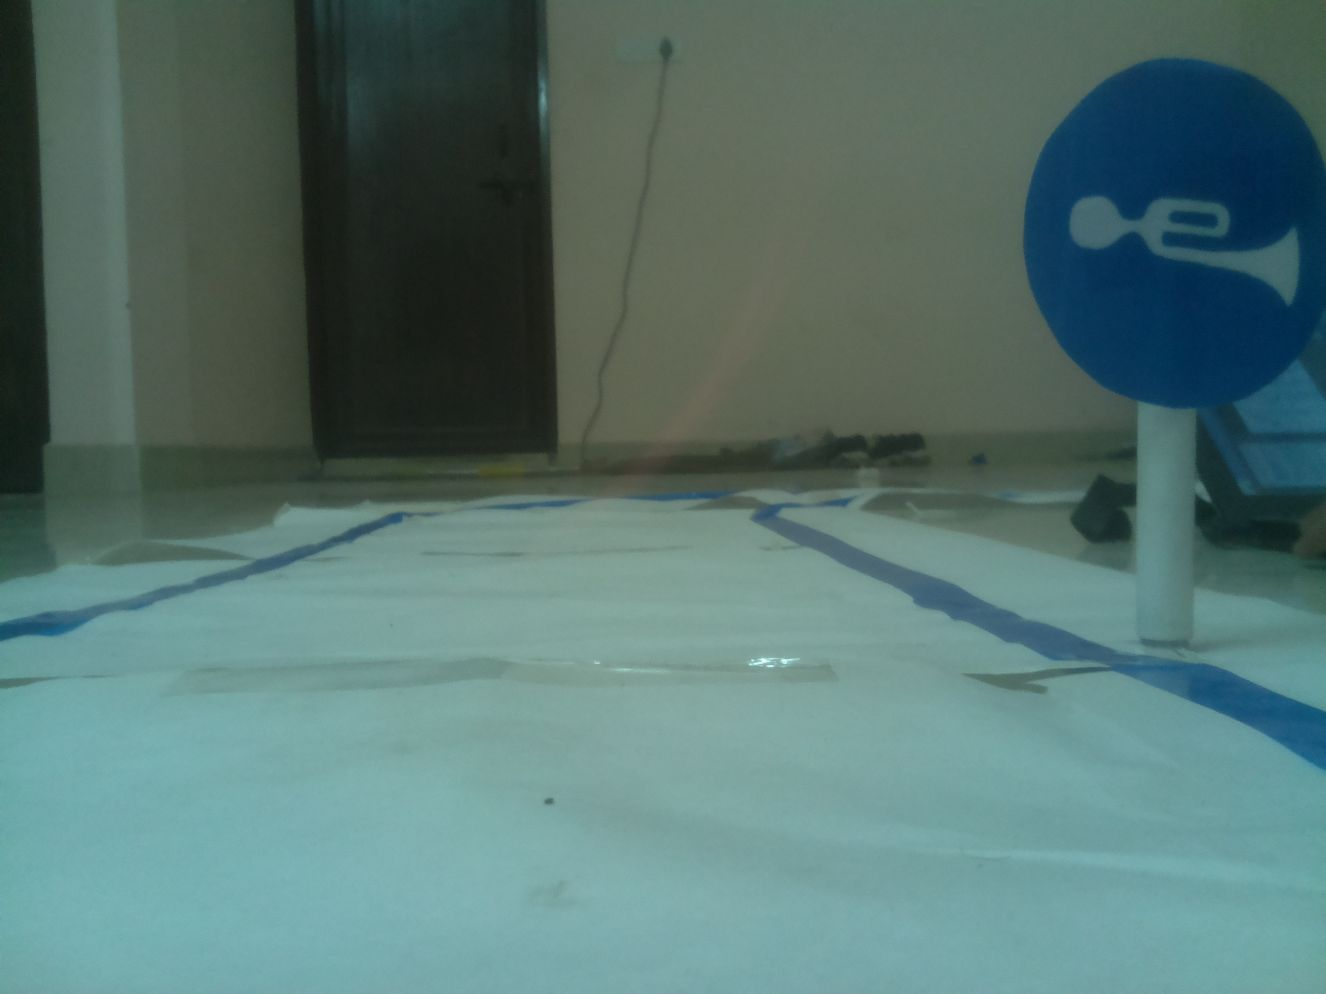blow-horn: (1023, 63, 1315, 406)
